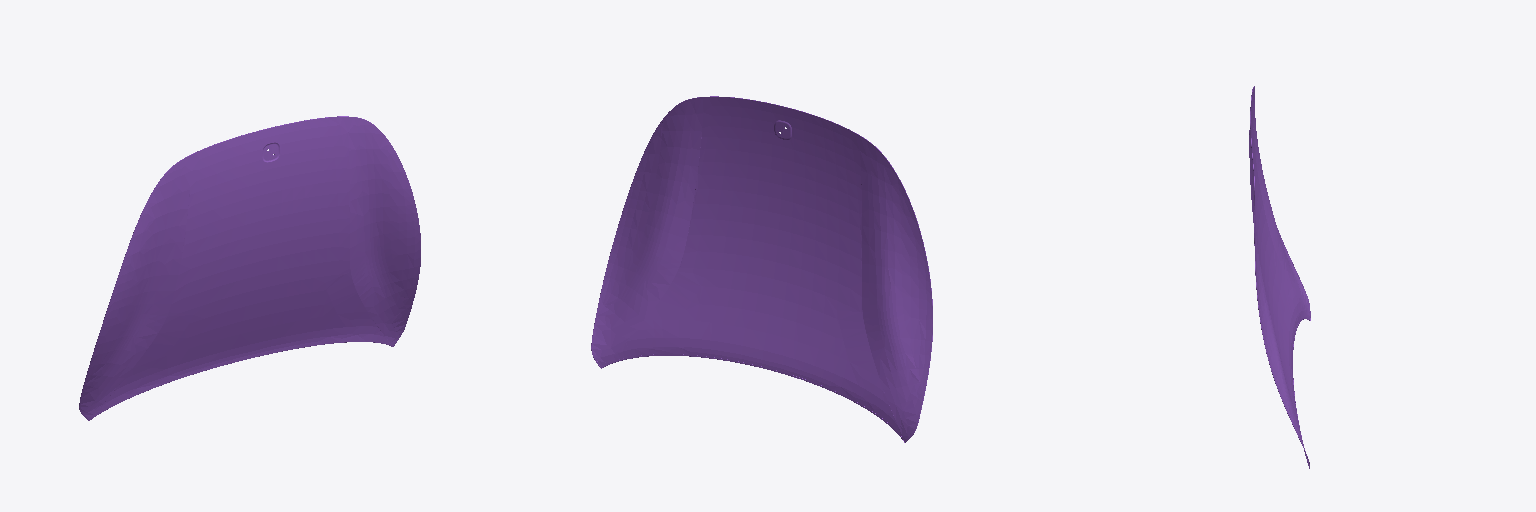
File: car_hood_scaled.obj
The picture shows the model from 3 angles: view 1: azimuth 30°, elevation 25°; view 2: azimuth 150°, elevation 25°; view 3: azimuth 270°, elevation 25°; orthographic projection.
Bounding box in the file's own units: 1.63 × 1.32 × 0.2626.